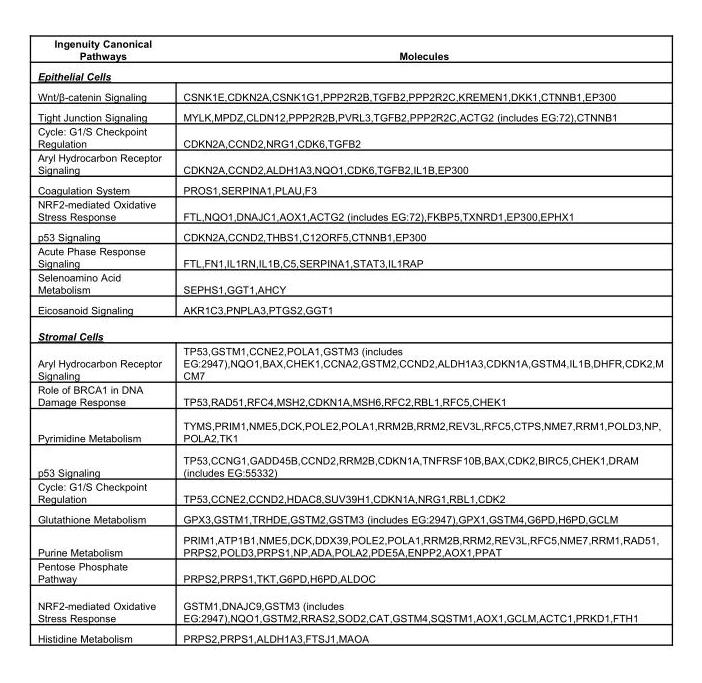table: (36, 37, 662, 643)
table column: (171, 37, 662, 643), (36, 37, 171, 643)
table column header: (36, 37, 662, 65)
table projected row header: (36, 65, 662, 86), (36, 322, 662, 343)
table row: (36, 343, 662, 382), (36, 591, 662, 627), (36, 413, 662, 448), (36, 559, 662, 591), (36, 382, 662, 413), (36, 448, 662, 479), (36, 196, 662, 226), (36, 269, 662, 299), (36, 529, 662, 559), (36, 150, 662, 179), (36, 479, 662, 508), (36, 37, 662, 65), (36, 123, 662, 150), (36, 243, 662, 269), (36, 299, 662, 322), (36, 65, 662, 86), (36, 322, 662, 343), (36, 508, 662, 529), (36, 86, 662, 106), (36, 106, 662, 123), (36, 179, 662, 196), (36, 226, 662, 243), (36, 627, 662, 643)
